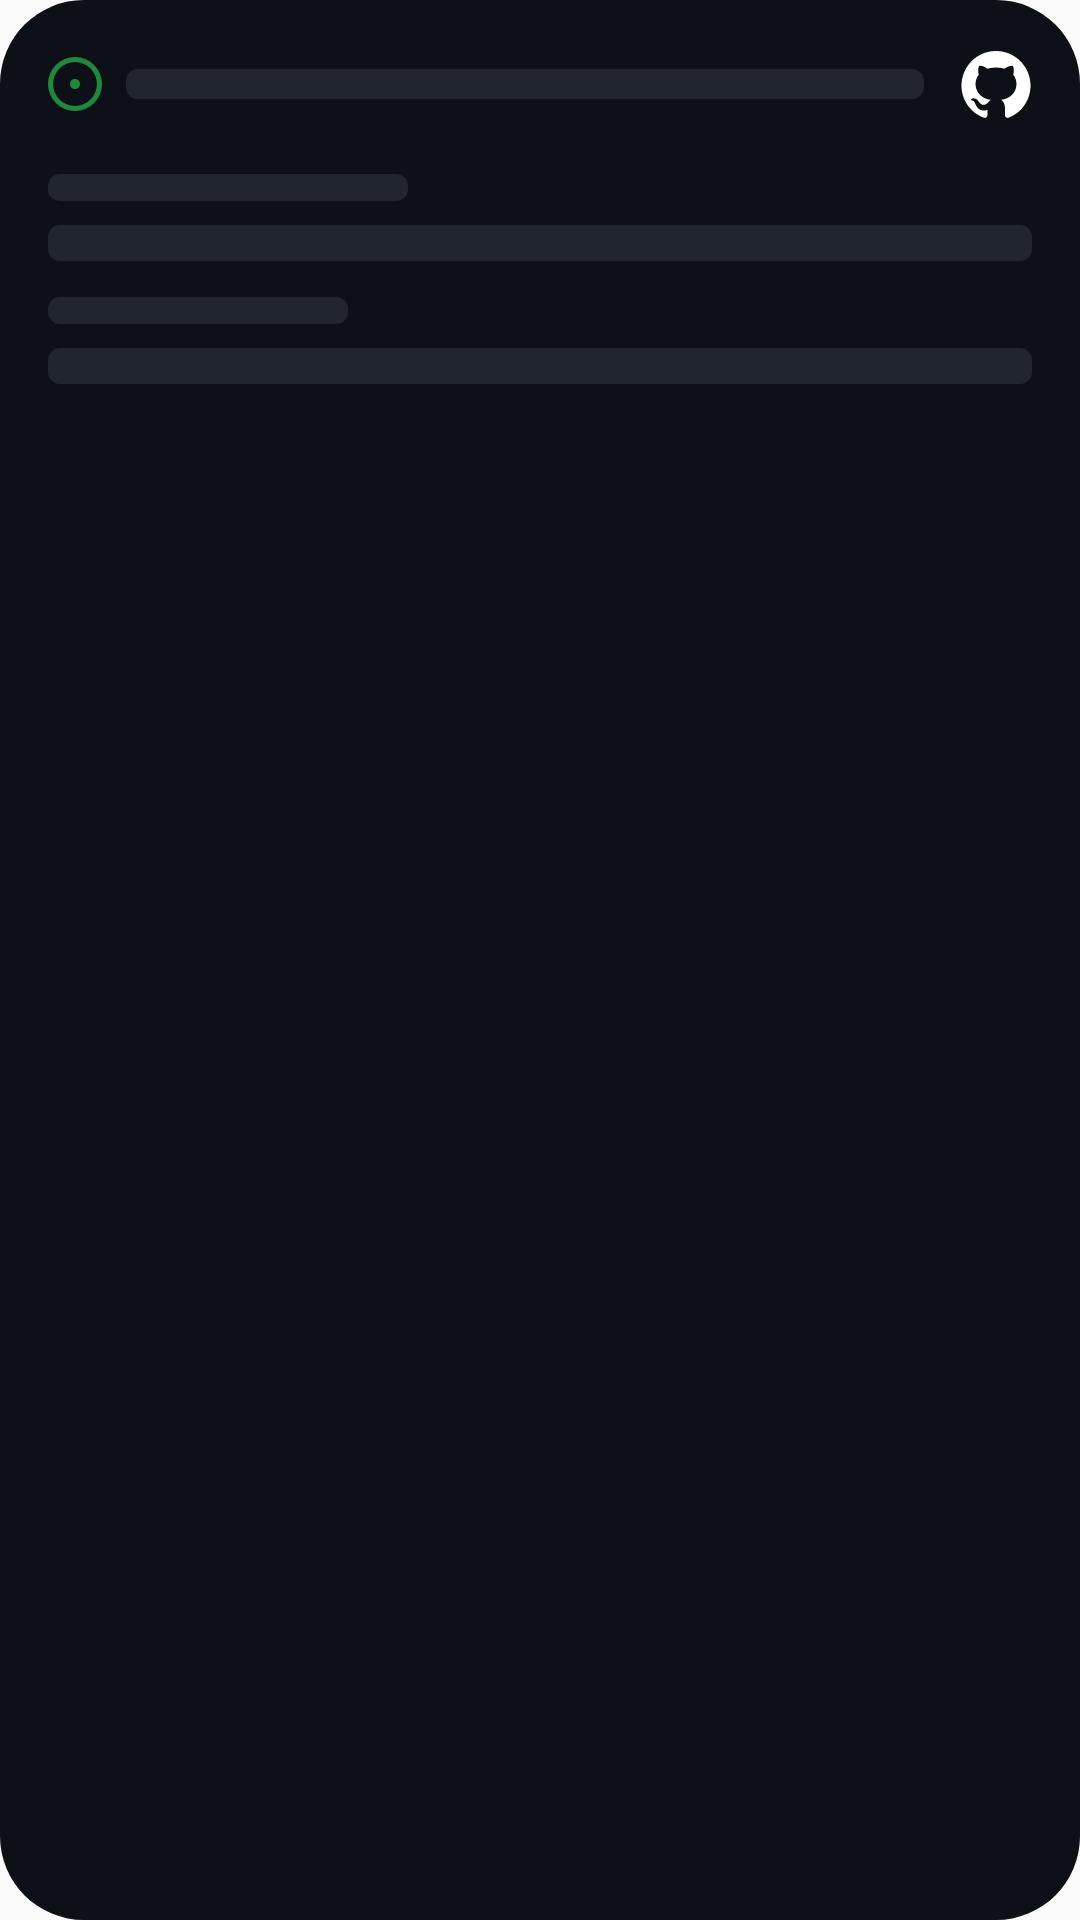

Icon click points for this 1080w x 1920h phone screenshot, format (x=x, y=y):
git issue: (x=75, y=84)
